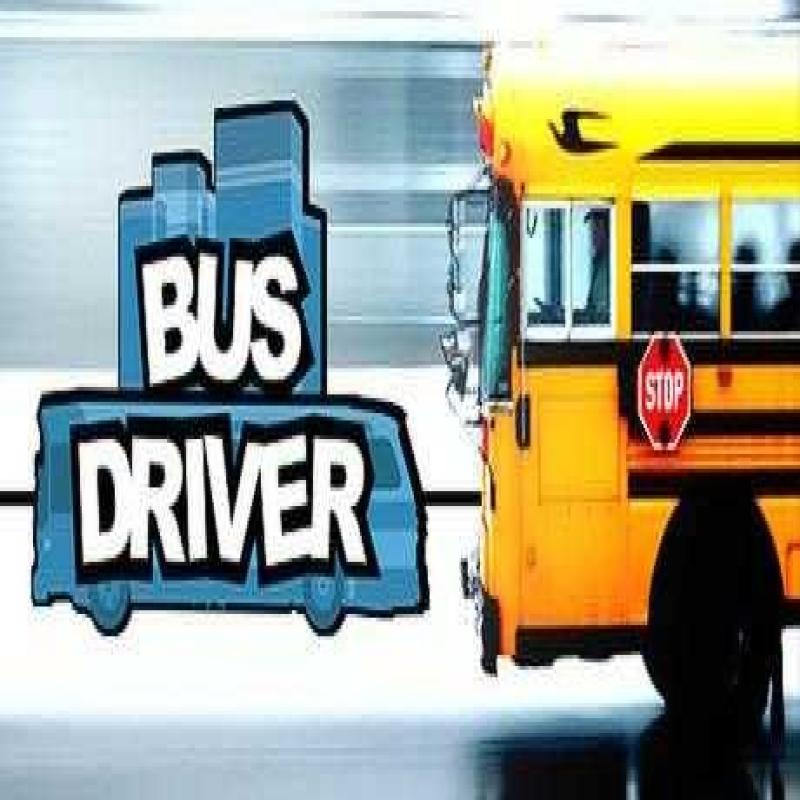bus: (458, 43, 800, 788)
